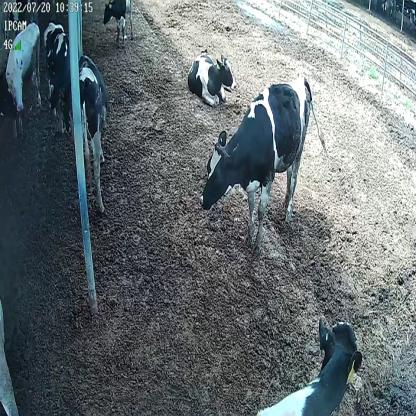cow: (198, 77, 329, 247), (253, 316, 362, 416), (5, 22, 43, 132), (188, 50, 238, 108), (101, 0, 138, 46)
